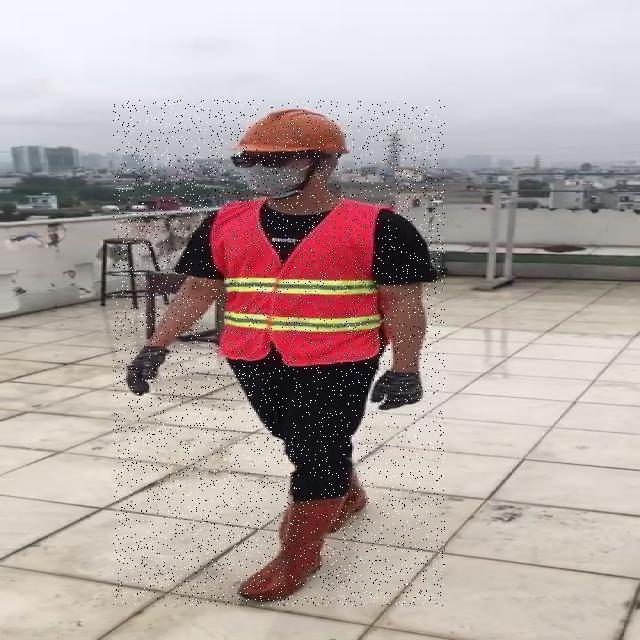gloves: (369, 368, 426, 412), (125, 344, 170, 398)
goggles: (232, 155, 320, 169)
helmet: (233, 103, 361, 155)
safety_vest: (217, 201, 391, 364)
